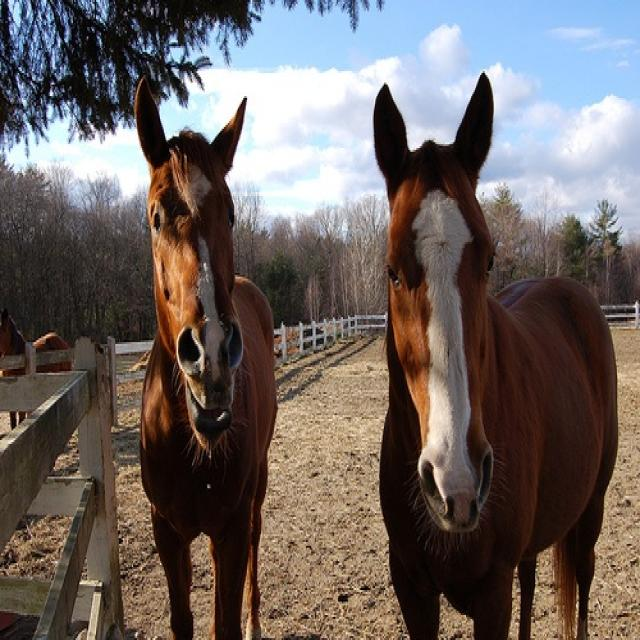horse: (372, 71, 618, 638), (134, 75, 279, 638)
